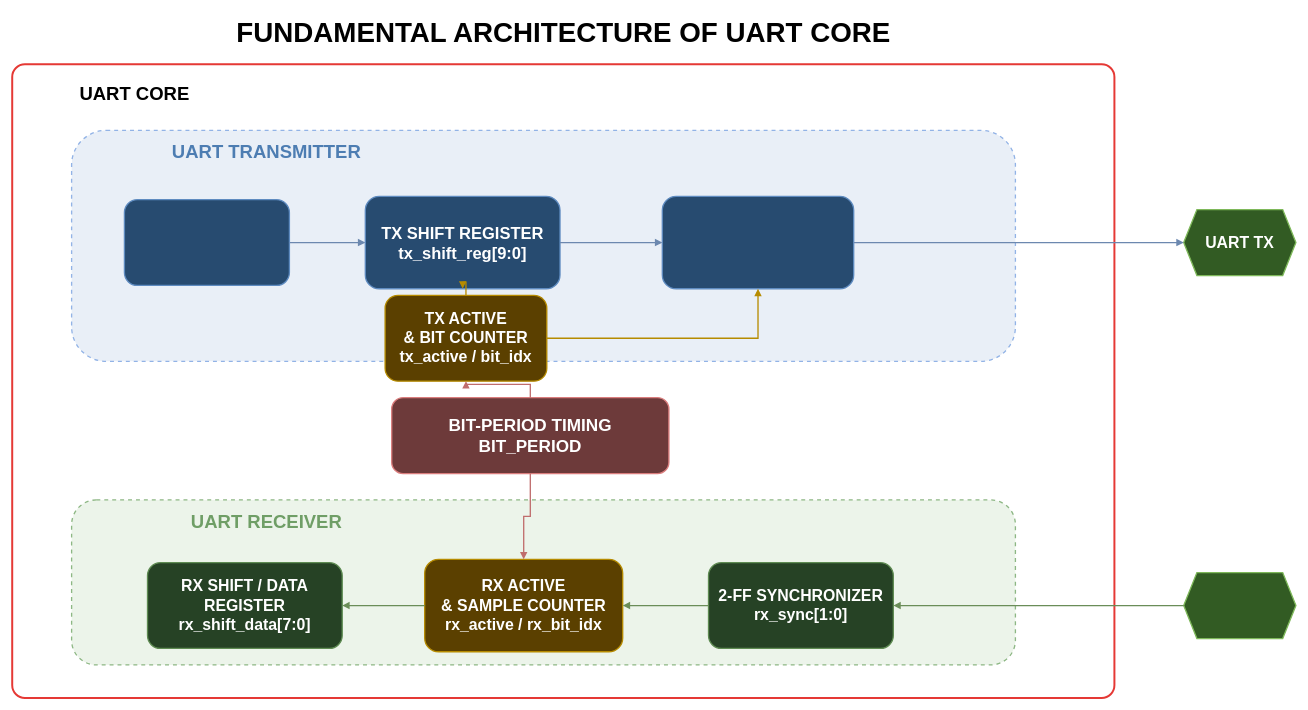
Image size: 1308x710. Some labels were removed from this diagram. The centre of each missing label's shape, as x and y in pixels:
"TX ACTIVE / IDLE OUTPUT SELECT" goes at (x=757, y=242).
"TX DATA REGISTER tx_data[7:0]" goes at (x=206, y=242).
"UART RX" goes at (x=1239, y=605).
